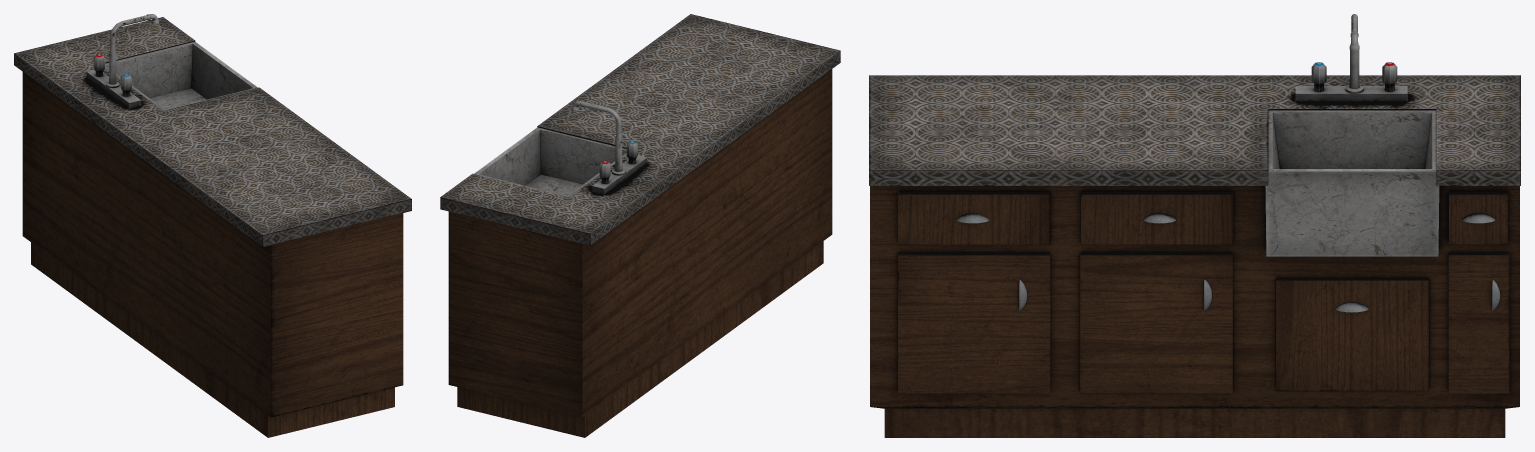
3 renders of one model, left to right at view 1: azimuth 30°, elevation 25°; view 2: azimuth 150°, elevation 25°; view 3: azimuth 270°, elevation 25°, orthographic. The views are drawn at different scales.
Parts seen in each view (by area): view 1: Kitchen; view 2: Kitchen; view 3: Kitchen.
Part boxes in pixels (left/top/right/bottom): Kitchen: left=14, top=14, right=411, bottom=437; Kitchen: left=440, top=14, right=840, bottom=437; Kitchen: left=869, top=14, right=1520, bottom=437.
Size of the model in its own units: 2.38 by 4.2 by 6.82.
Materials: 6 (6 with a texture image).
